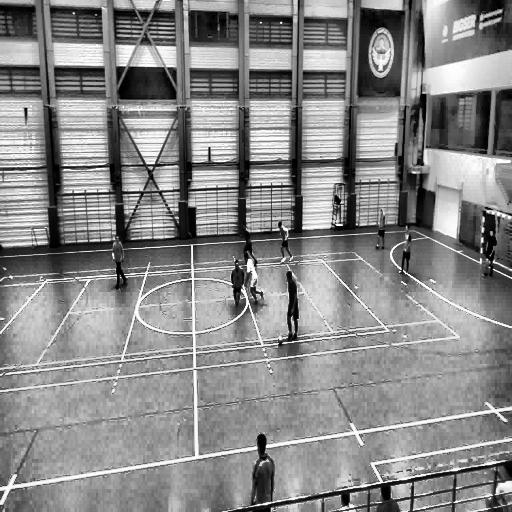ball: (278, 335, 283, 345)
player: (250, 434, 275, 511), (244, 252, 263, 306), (286, 269, 298, 341), (241, 222, 258, 268), (113, 234, 127, 289), (278, 220, 294, 264), (483, 228, 497, 277), (231, 260, 243, 307), (401, 224, 412, 275), (376, 208, 386, 250)
